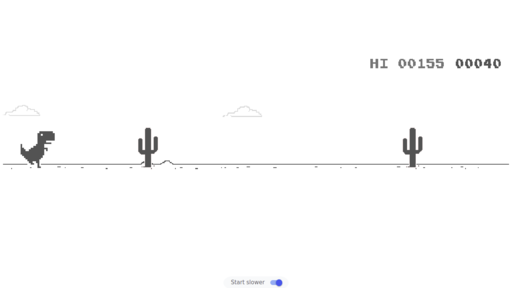dino: (18, 130, 56, 169)
tree: (137, 127, 159, 169), (403, 128, 423, 168)
